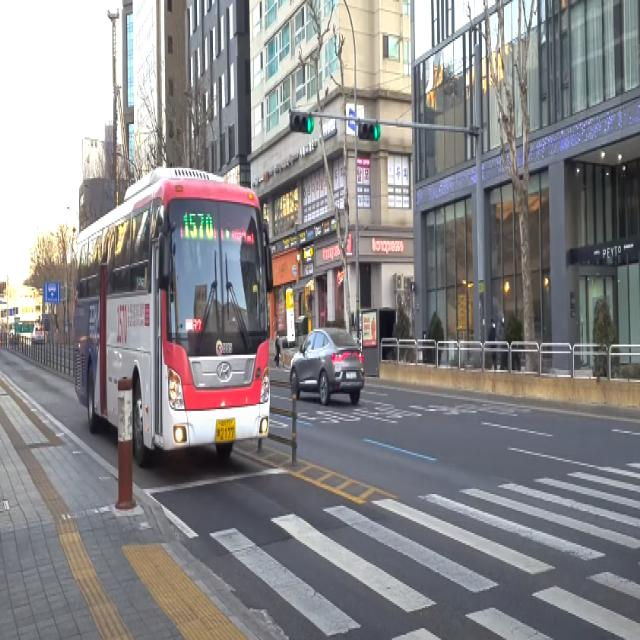bus-number: (182, 210, 214, 240)
